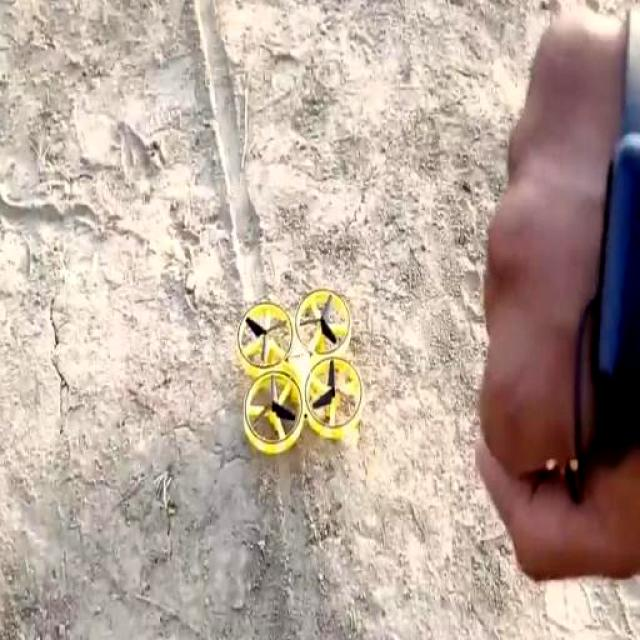bird: (232, 282, 371, 466)
